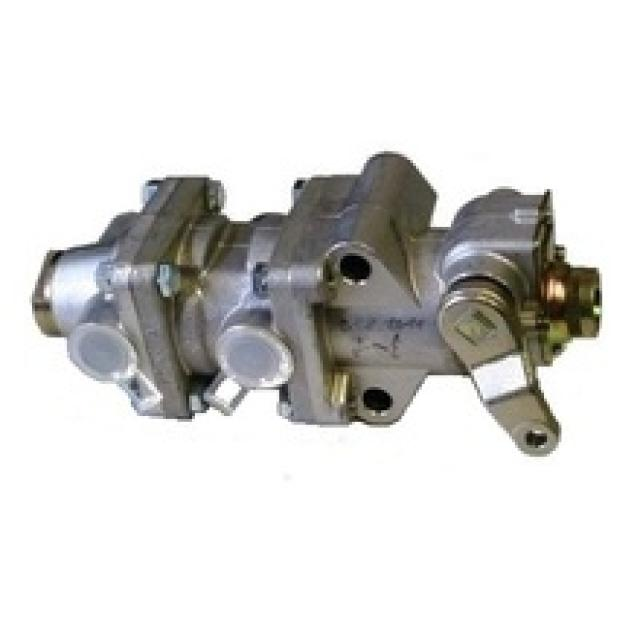video_frame: (28, 146, 605, 458)
